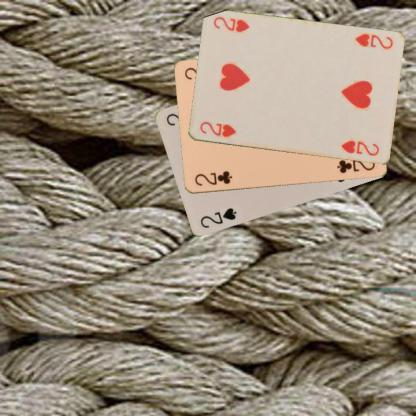2c: (192, 169, 233, 187)
2h: (197, 119, 237, 139), (352, 31, 394, 50)
2s: (198, 206, 238, 230)
